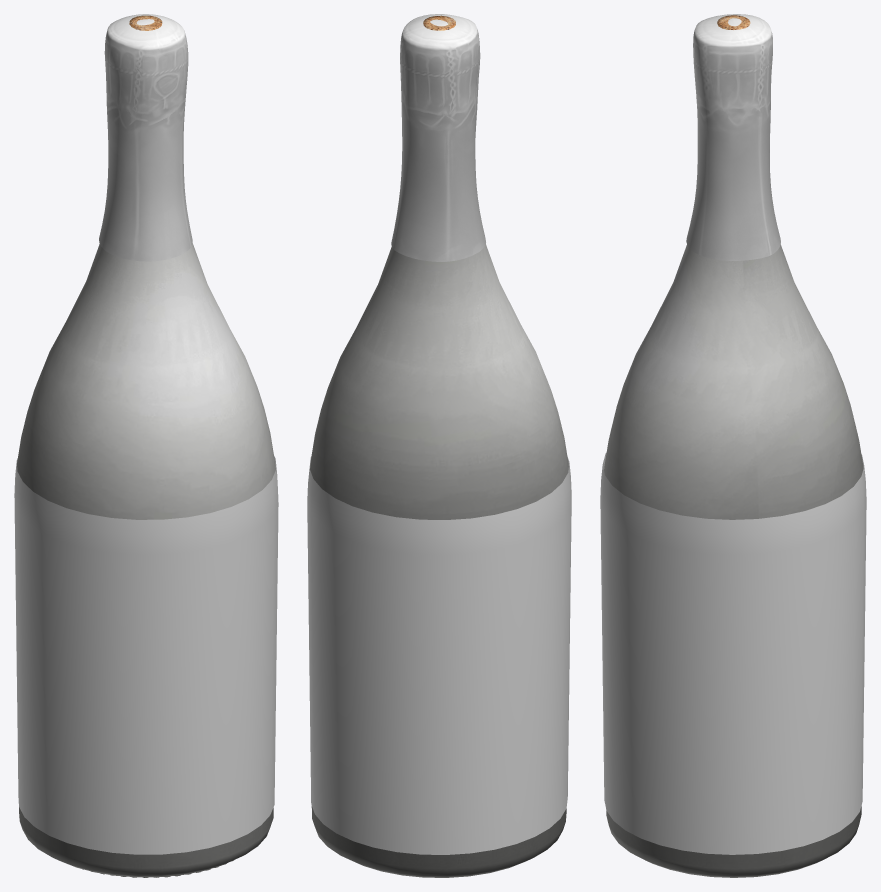
The model's file is Mathusalem_6l.glb.
3 renders of one model, left to right at view 1: azimuth 30°, elevation 25°; view 2: azimuth 150°, elevation 25°; view 3: azimuth 270°, elevation 25°, orthographic.
Visible parts, largest first — view 1: label, bottiglia, champagneAluminium; view 2: label, bottiglia, champagneAluminium; view 3: label, bottiglia, champagneAluminium.
Boxes of the visible parts, x1,y1,x2,y2 form: label: [14, 456, 278, 854]; bottiglia: [17, 243, 275, 877]; champagneAluminium: [99, 14, 192, 261]; label: [307, 456, 571, 854]; bottiglia: [310, 243, 568, 877]; champagneAluminium: [391, 14, 485, 261]; label: [600, 452, 866, 854]; bottiglia: [604, 244, 863, 877]; champagneAluminium: [686, 14, 780, 261].
Size of the model in its own units: 0.1749 by 0.5896 by 0.1761.
8 materials, 7 textured.
